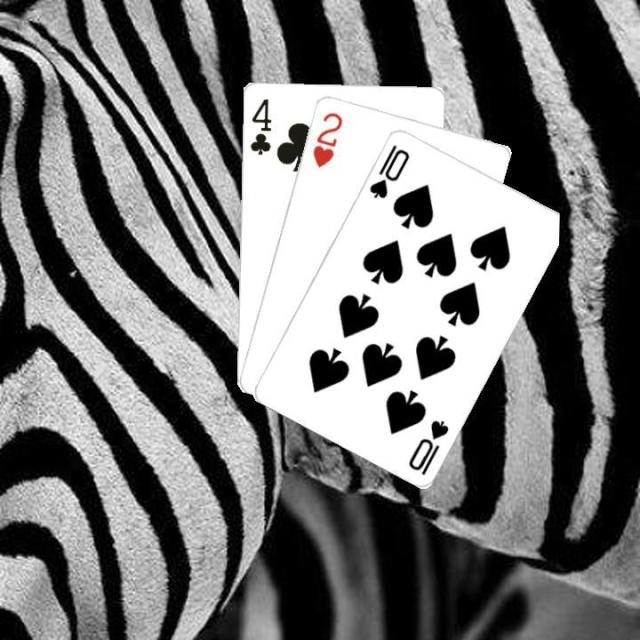10S: (404, 415, 451, 477), (364, 140, 412, 200)
2H: (308, 107, 344, 169)
4C: (246, 95, 273, 156)
